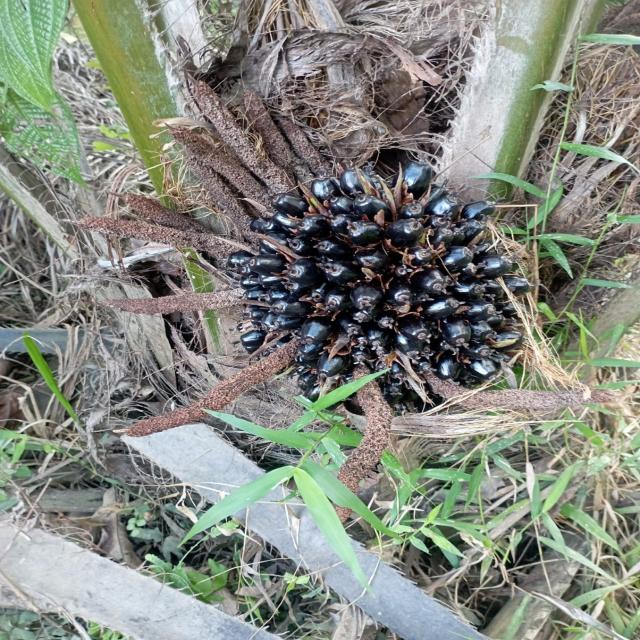fraksi 00: (160, 133, 596, 456)
